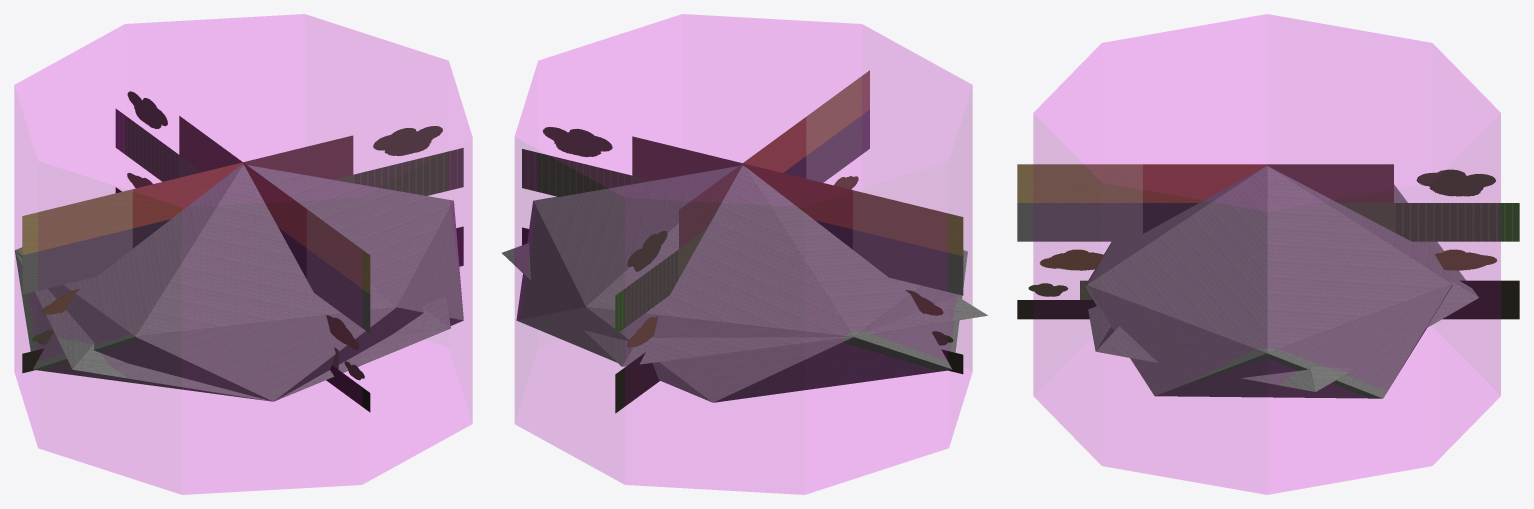
The model's file is rock_large_gray_a.dae.
3 views of the same model, side by side, from view 1: azimuth 30°, elevation 25°; view 2: azimuth 150°, elevation 25°; view 3: azimuth 270°, elevation 25° (orthographic).
Parts seen in each view (by area): view 1: Colmesh_rock-1, rock_large_gray_a_a800, rock_large_gray_a_a50, rock_large_gray_a_a200; view 2: Colmesh_rock-1, rock_large_gray_a_a800, rock_large_gray_a_a50, rock_large_gray_a_a200; view 3: Colmesh_rock-1, rock_large_gray_a_a800, rock_large_gray_a_a50, rock_large_gray_a_a200.
Part boxes in pixels (x1=…): Colmesh_rock-1: x1=14, y1=14, x2=472, y2=494; rock_large_gray_a_a800: x1=14, y1=164, x2=463, y2=401; rock_large_gray_a_a50: x1=22, y1=91, x2=463, y2=412; rock_large_gray_a_a200: x1=15, y1=251, x2=450, y2=401; Colmesh_rock-1: x1=515, y1=14, x2=972, y2=494; rock_large_gray_a_a800: x1=516, y1=165, x2=967, y2=402; rock_large_gray_a_a50: x1=522, y1=70, x2=963, y2=413; rock_large_gray_a_a200: x1=502, y1=243, x2=987, y2=366; Colmesh_rock-1: x1=1033, y1=14, x2=1500, y2=494; rock_large_gray_a_a800: x1=1085, y1=166, x2=1452, y2=398; rock_large_gray_a_a50: x1=1017, y1=164, x2=1519, y2=319; rock_large_gray_a_a200: x1=1088, y1=184, x2=1478, y2=391.
Size of the model in its own units: 2.9 by 2.9 by 1.8.
2 materials, 1 textured.
